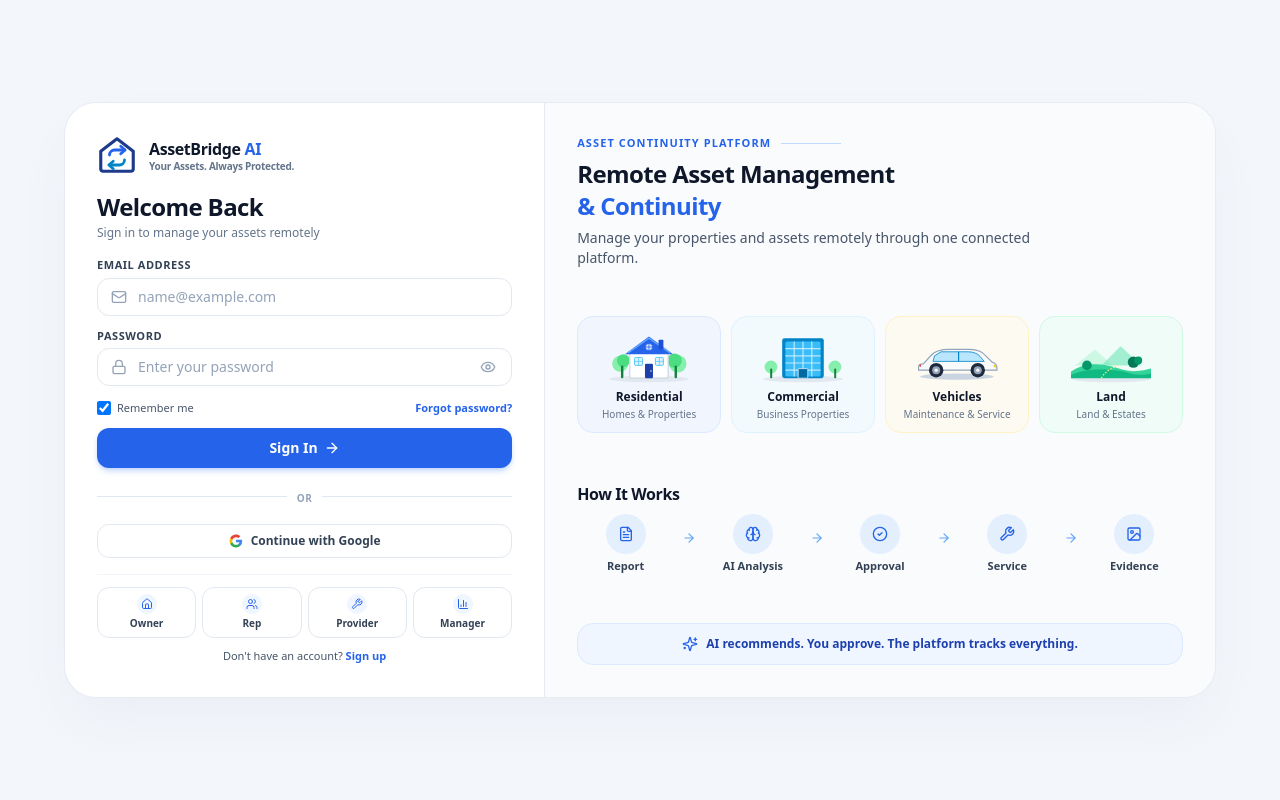
Scenario: LoginPage Component › populates credentials when quick fill button is clicked
The width and height of the screenshot is (1280, 800).
Click the button "Manager" at (463, 613), box [413, 587, 512, 638]
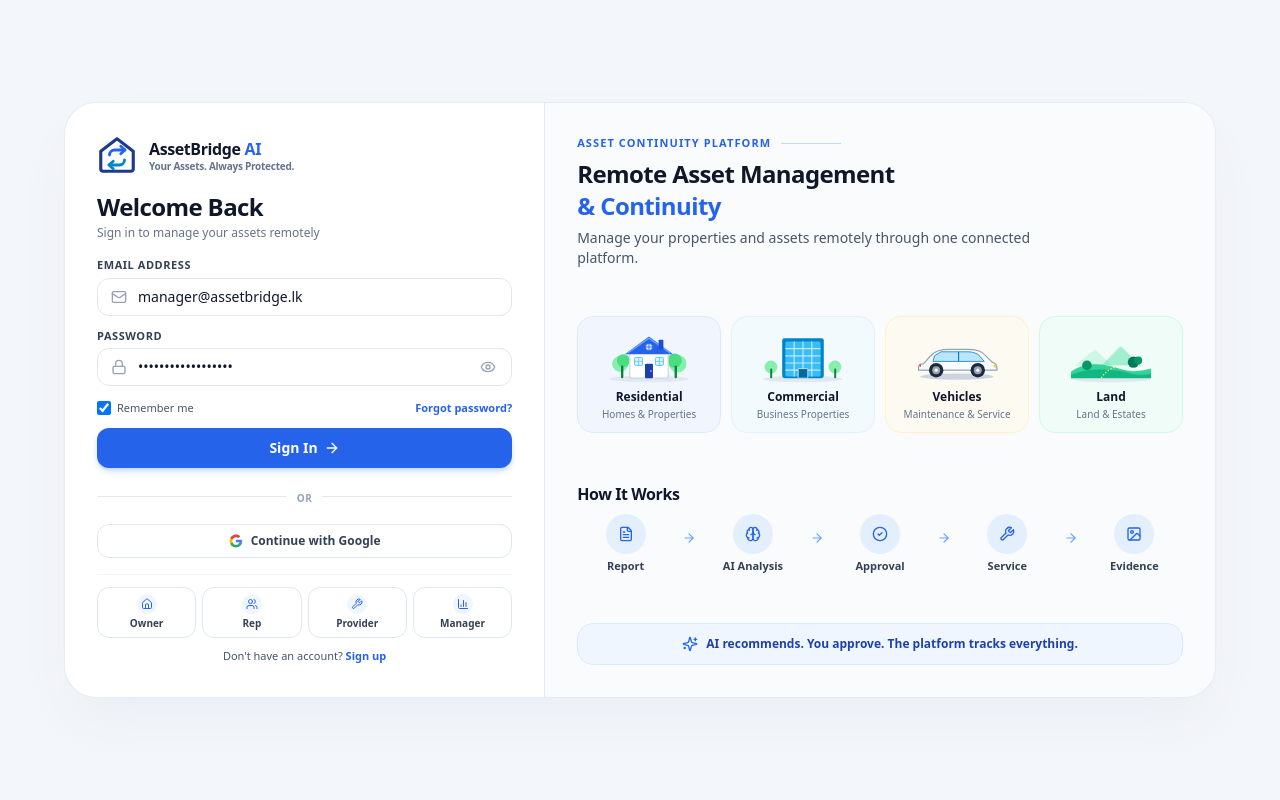
Now the field with placeholder "name@example.com" holds "manager@assetbridge.lk", box [97, 278, 512, 316]
Now the password field with placeholder "Enter your password" holds "SecurePassword123!", box [97, 348, 512, 386]
